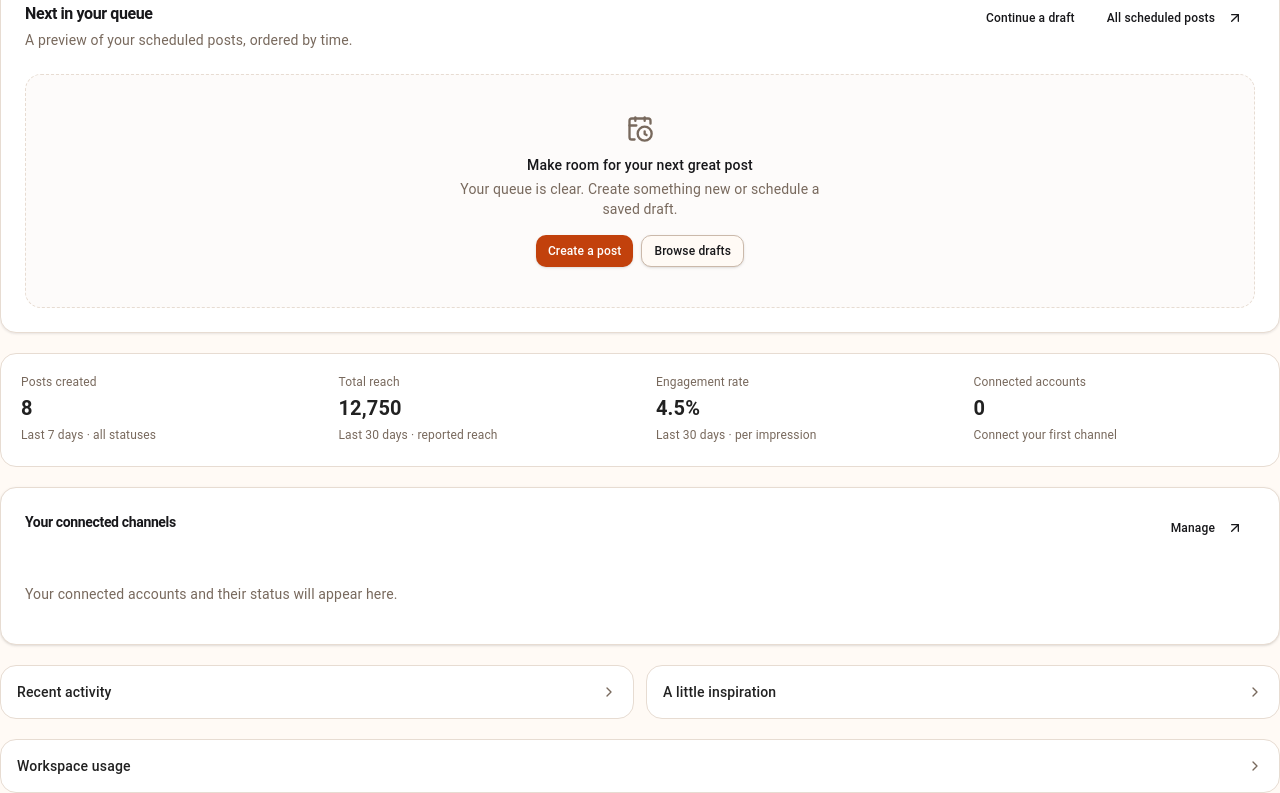
Test: SocialDashboard › offers account onboarding and draft actions for a new workspace
The width and height of the screenshot is (1280, 793).
(page scrolled)
Check: the link "Browse drafts" is shown, box [641, 235, 744, 267]
What coordinates should you click on to do the following:
click the heading "A little inspiration"
I would click on:
 (720, 692)
Its box is [663, 684, 1263, 700].
(page scrolled)
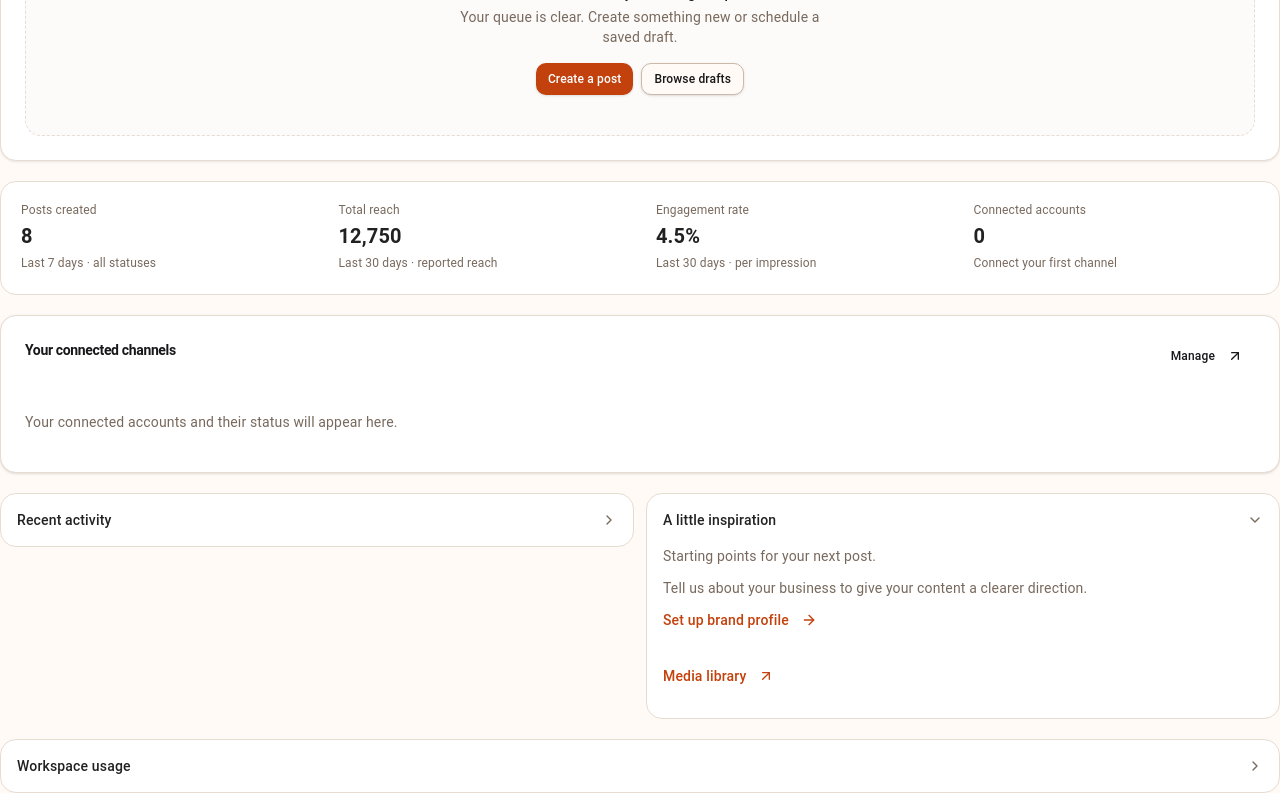
Check: the link "Set up brand profile" is shown, box [663, 612, 817, 628]
